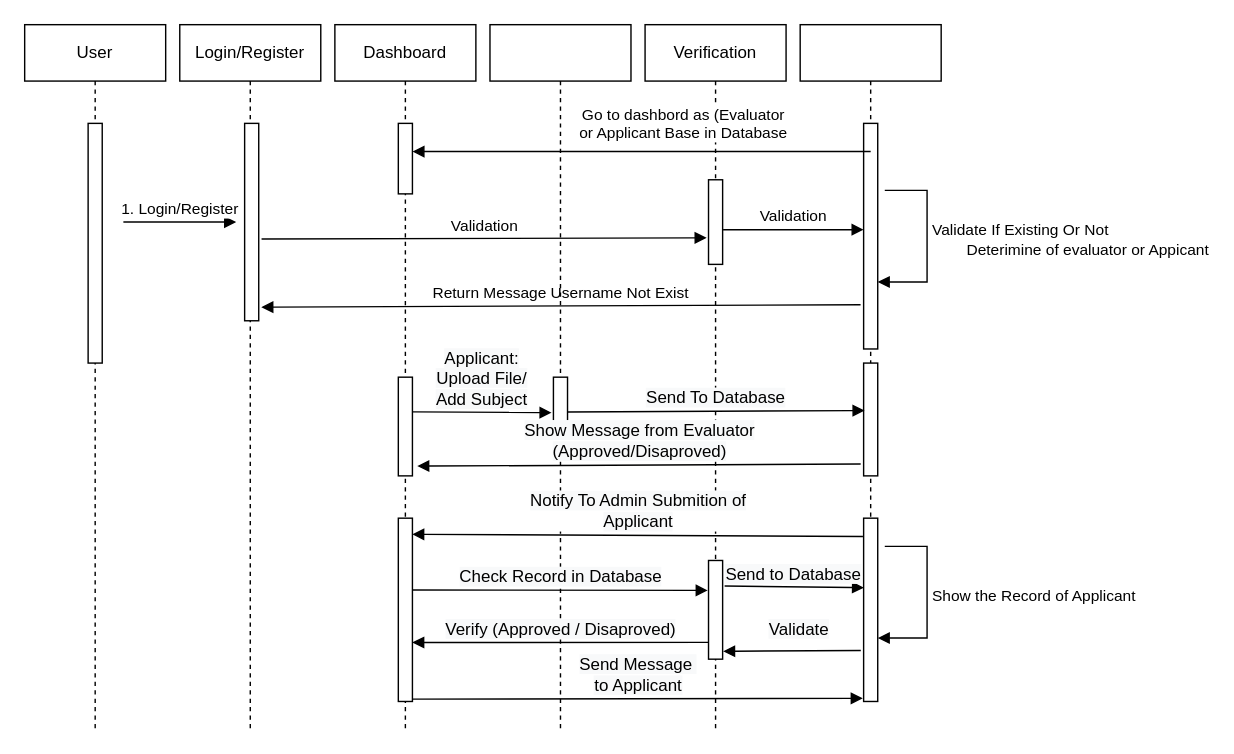
Image size: 1234x754. Some labels were removed from this diagram. Each missing label, with the centre of its shape:
"Database" goes at (x=870, y=362).
"Upload File/ Add Subject" goes at (x=560, y=376).
